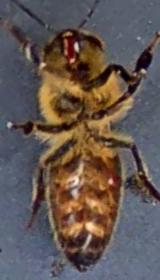varroa_mite: (106, 168, 122, 190)
